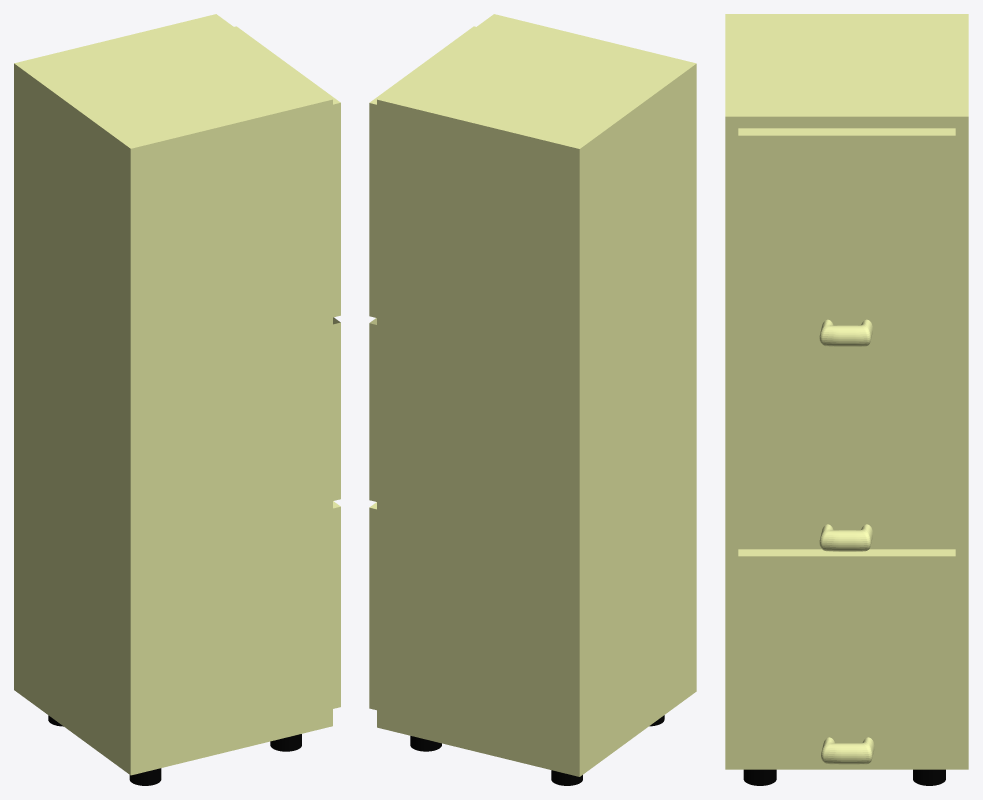
The model's file is Archivero Biblioteca Material.glb.
3 renders of one model, left to right at view 1: azimuth 30°, elevation 25°; view 2: azimuth 150°, elevation 25°; view 3: azimuth 270°, elevation 25°, orthographic. The views are drawn at different scales.
Visible parts, largest first — view 1: archivero; view 2: archivero; view 3: archivero.
Part boxes in pixels (x1=…): archivero: x1=14, y1=14, x2=340, y2=785; archivero: x1=369, y1=14, x2=696, y2=785; archivero: x1=725, y1=14, x2=968, y2=785.
Size of the model in its own units: 5.46 by 14.23 by 4.63.
